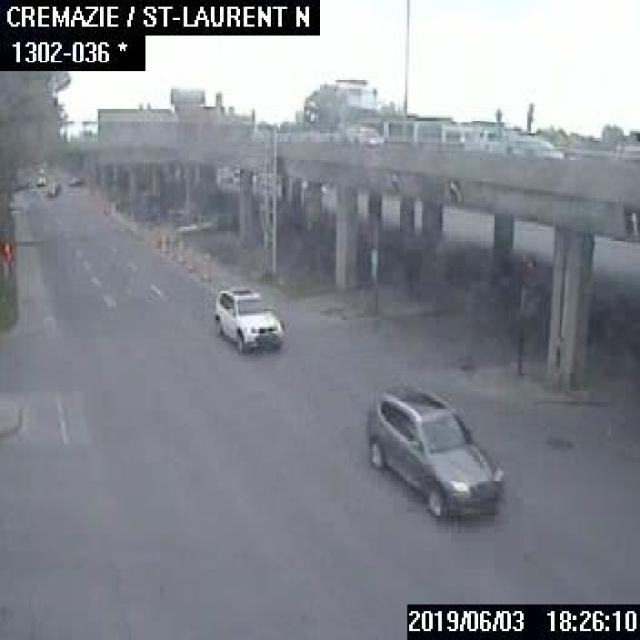vehicle: (364, 380, 504, 520), (211, 282, 284, 356), (506, 134, 562, 160), (344, 126, 383, 144), (44, 180, 60, 194), (68, 173, 87, 184)
